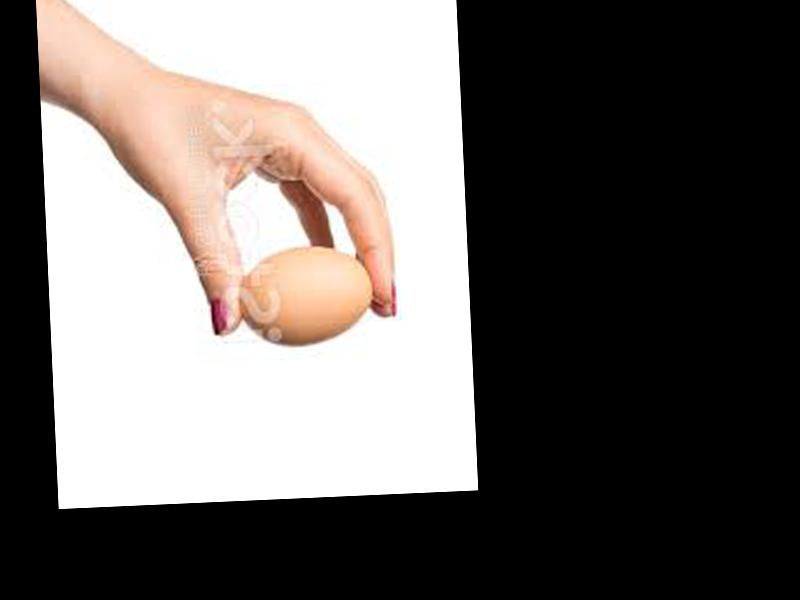Eggs: (236, 245, 374, 344)
